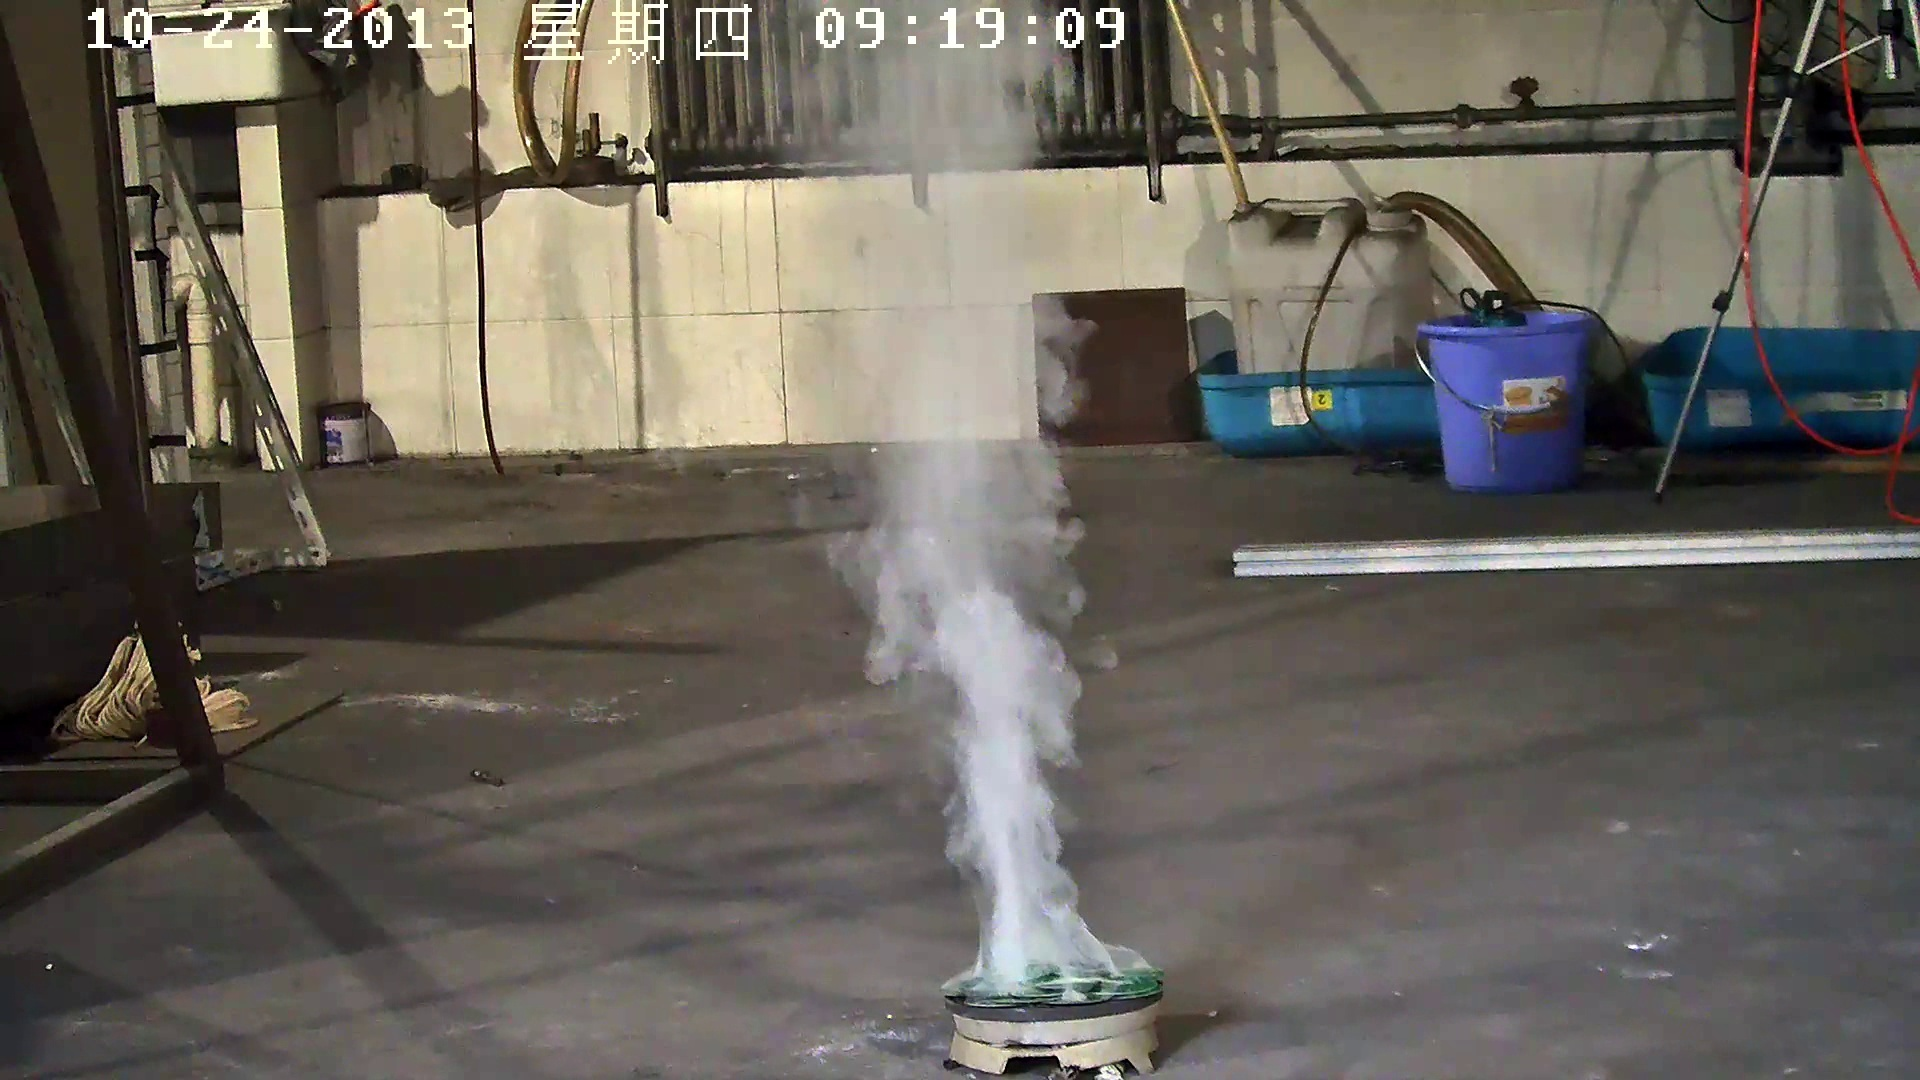smoke: (767, 49, 1158, 1005)
